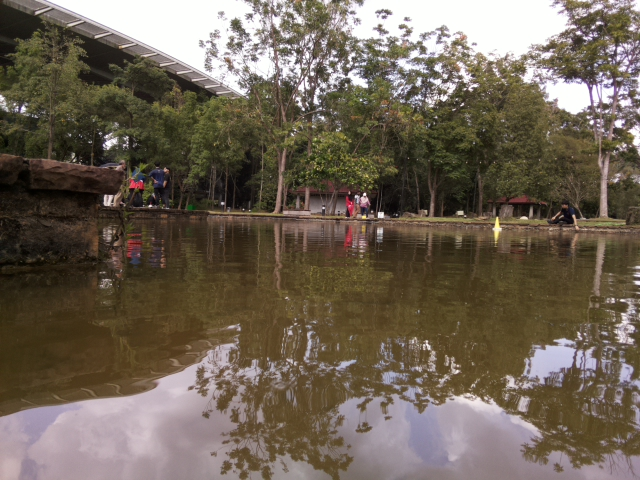checkpoint: (491, 213, 503, 232)
